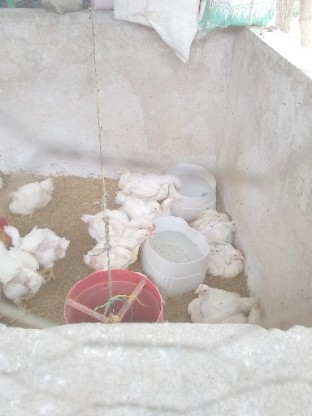Pollos: (2, 221, 67, 275), (78, 229, 157, 272), (0, 241, 41, 318), (191, 283, 239, 327), (190, 206, 241, 244), (5, 181, 61, 215), (206, 242, 255, 278), (122, 173, 188, 199), (88, 210, 159, 233), (109, 192, 162, 214), (237, 304, 275, 330), (163, 196, 182, 216), (111, 163, 131, 176)
